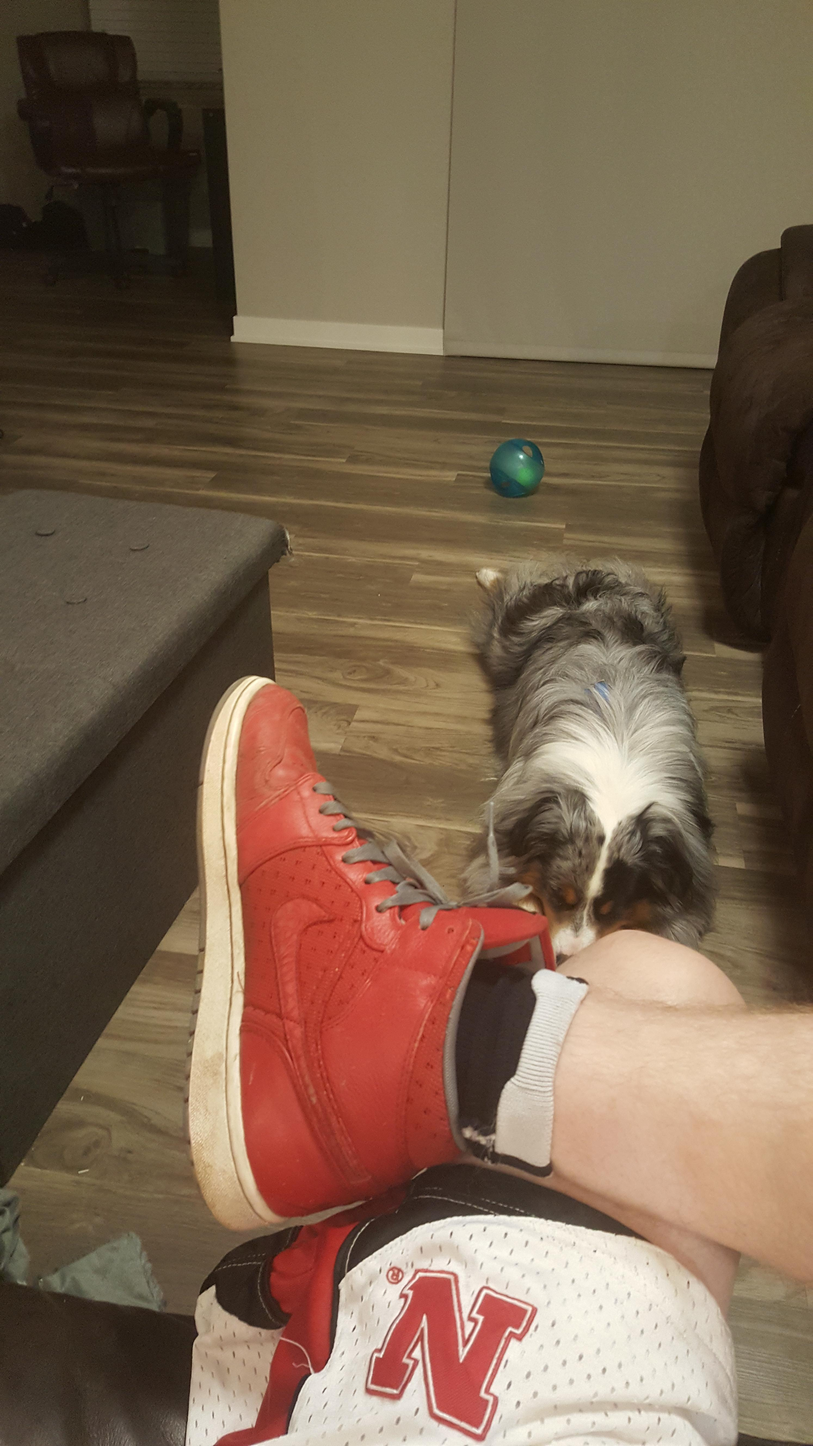sneaker: (181, 667, 555, 1233)
